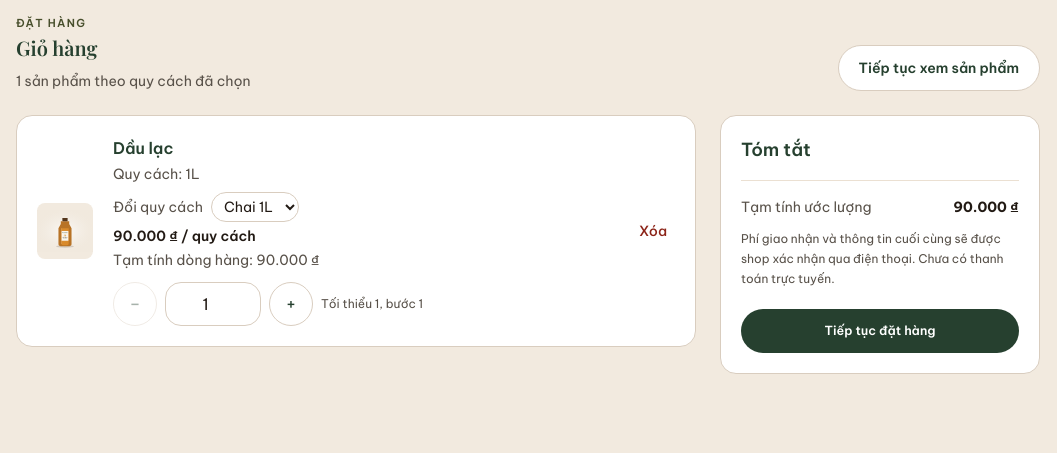
Scenario: keeps the current variant and data when the target price is invalid
This screenshot has width=1057, height=453.
Step 1. Select "Can 5L" in the dropdown → (255, 206), box [211,192,299,222]
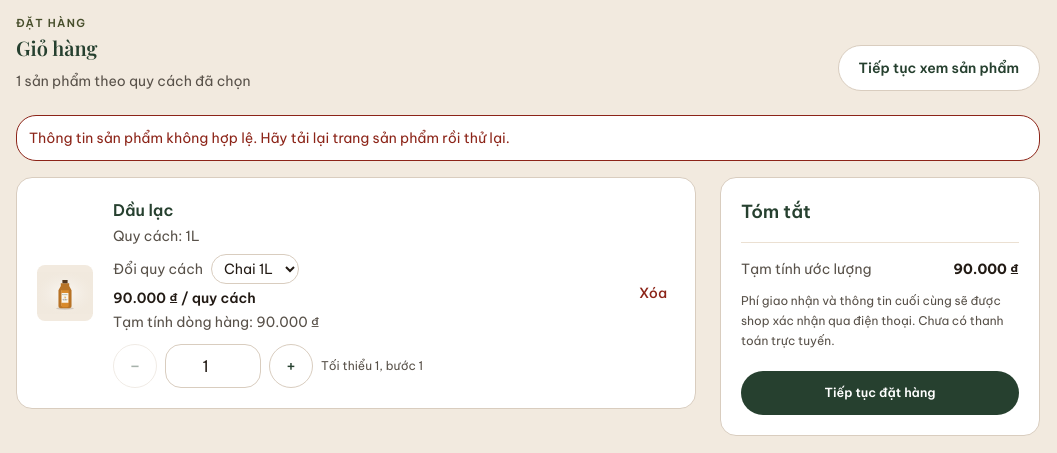
Expected: the text "Quy cách: 1L" is shown, [113,226,200,244]
Expected: the message shows "Thông tin sản phẩm không hợp lệ", [29,128,510,146]
